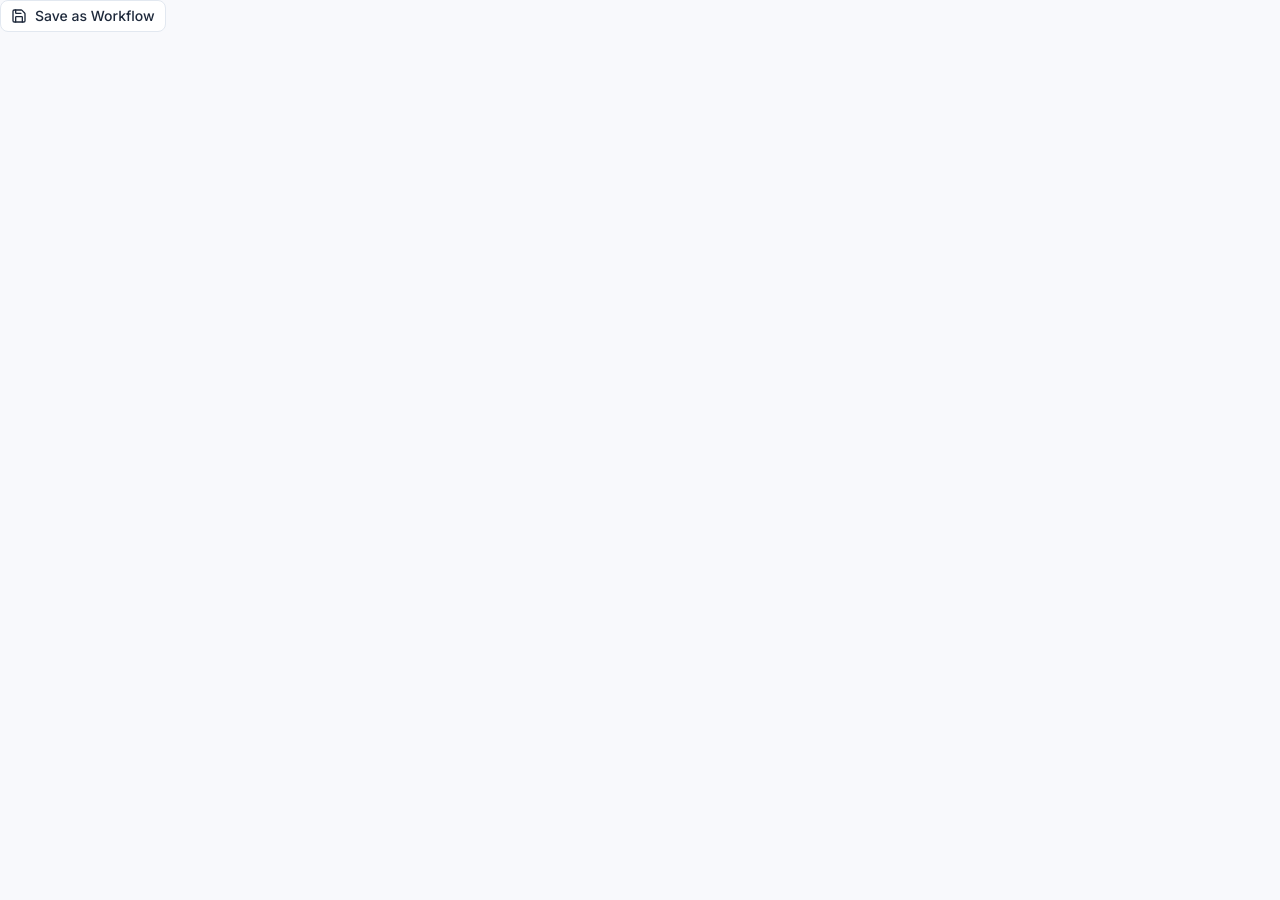
SaveWorkflowButton › opens the dialog when the trigger button is clicked
Click the button "Save as Workflow" at (83, 16), box [0,0,166,32]
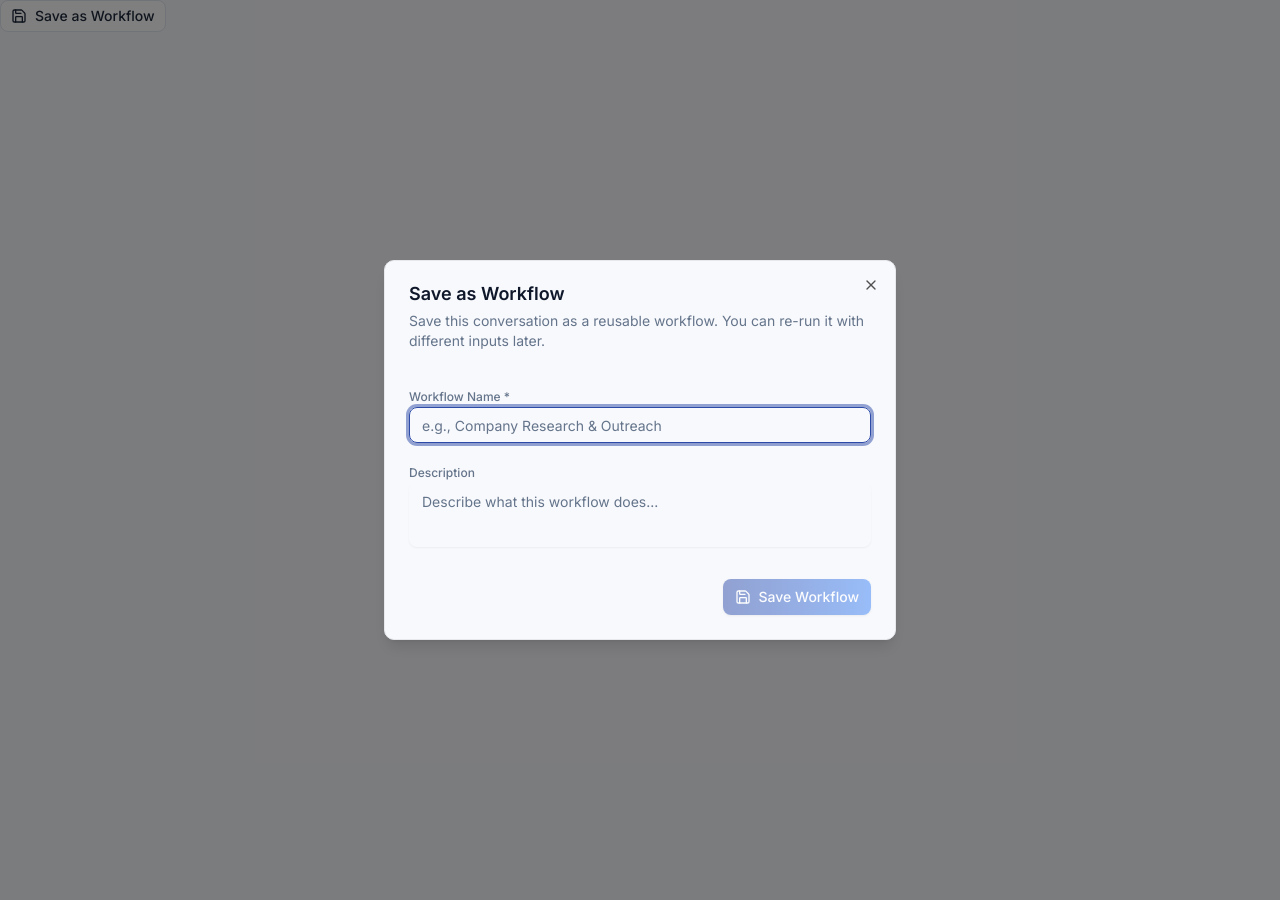
Result: the field with placeholder "e.g., Company Research & Outreach" is shown at [409,407,871,443]
